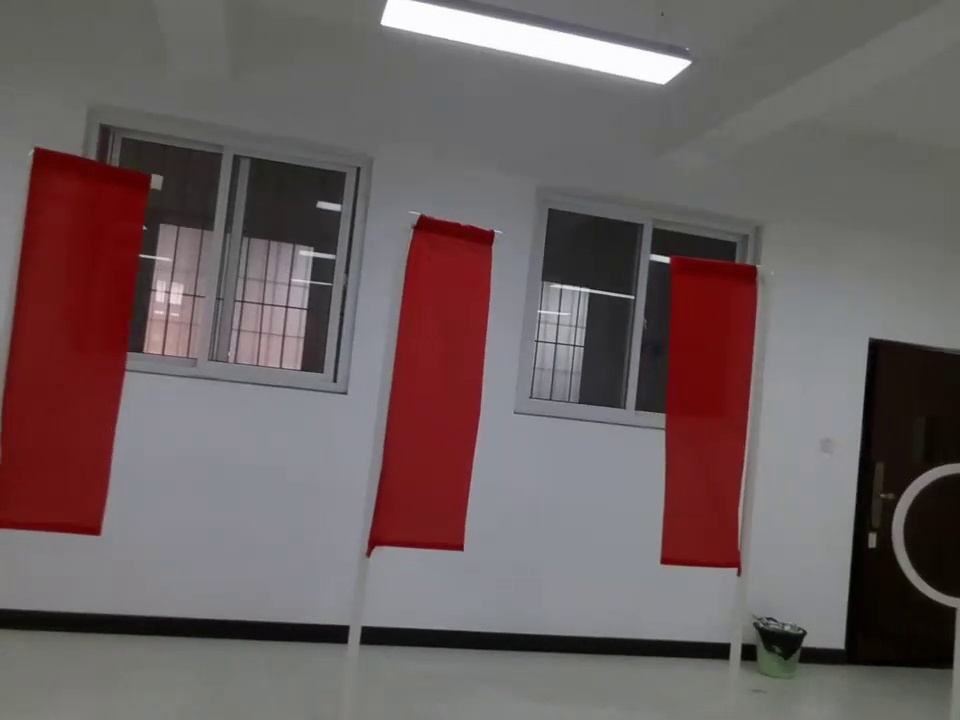qi: (4, 114, 160, 582), (359, 189, 505, 596), (660, 242, 759, 587)
quan: (885, 460, 960, 612)
